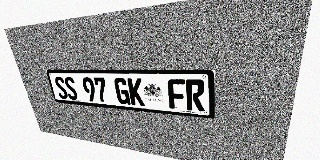7: (93, 77, 109, 103)
9: (81, 77, 98, 102)
F: (167, 79, 186, 110)
G: (113, 78, 131, 105)
K: (127, 78, 145, 106)
R: (186, 79, 205, 112)
S: (53, 76, 69, 99), (63, 77, 79, 100)
